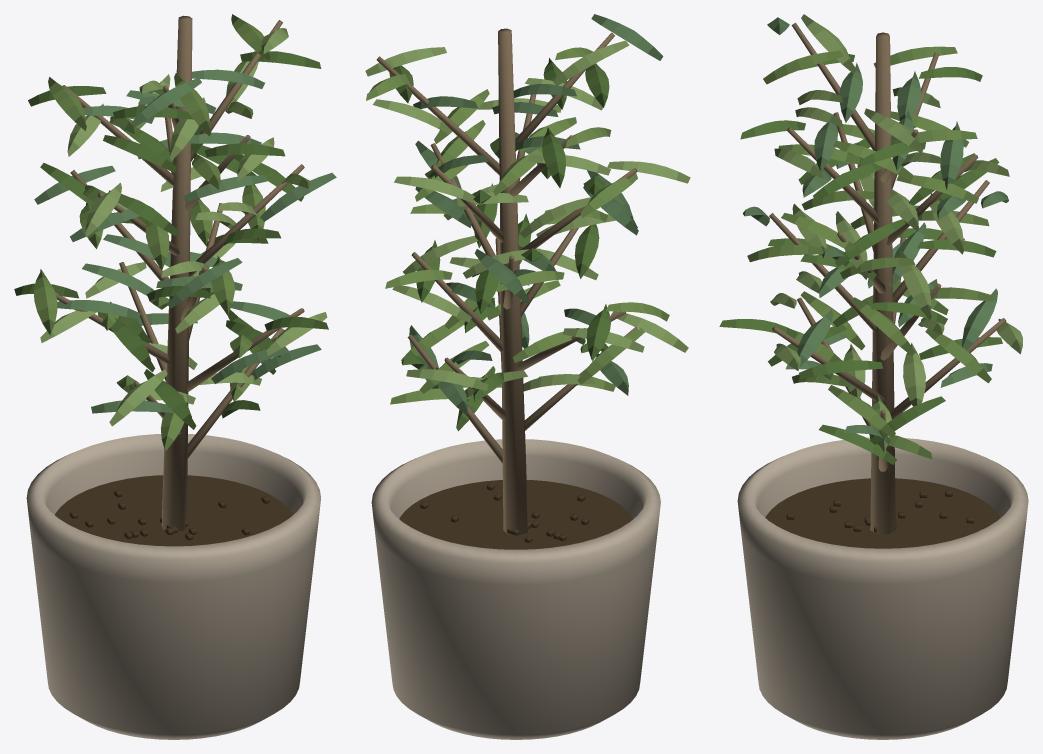
File: olive-v1.glb
The picture shows the model from 3 angles, left to right: view 1: azimuth 30°, elevation 25°; view 2: azimuth 150°, elevation 25°; view 3: azimuth 270°, elevation 25°; orthographic projection.
Parts seen in each view (by area): view 1: Hollow tapered planter; view 2: Hollow tapered planter; view 3: Hollow tapered planter.
Boxes of the visible parts, x1,y1,x2,y2 form: Hollow tapered planter: (14, 14, 336, 739); Hollow tapered planter: (365, 14, 690, 739); Hollow tapered planter: (719, 14, 1028, 739).
Bounding box in the file's own units: 0.6052 × 1.41 × 0.5951.
